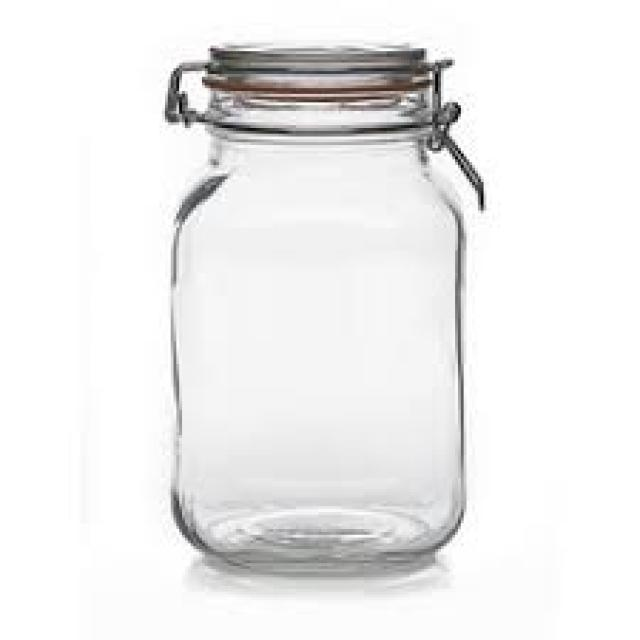glass: (165, 43, 466, 566)
metal: (430, 51, 481, 208)
